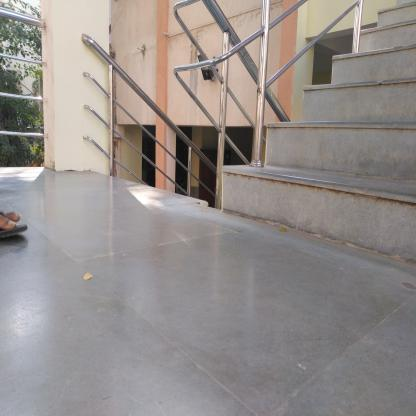stairs: (308, 80, 413, 281)
